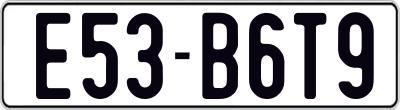3: (126, 13, 165, 103)
5: (79, 11, 121, 98)
6: (247, 12, 287, 104)
9: (336, 10, 378, 101)
B: (199, 10, 237, 97)
E: (36, 12, 72, 103)
T: (291, 13, 326, 102)
